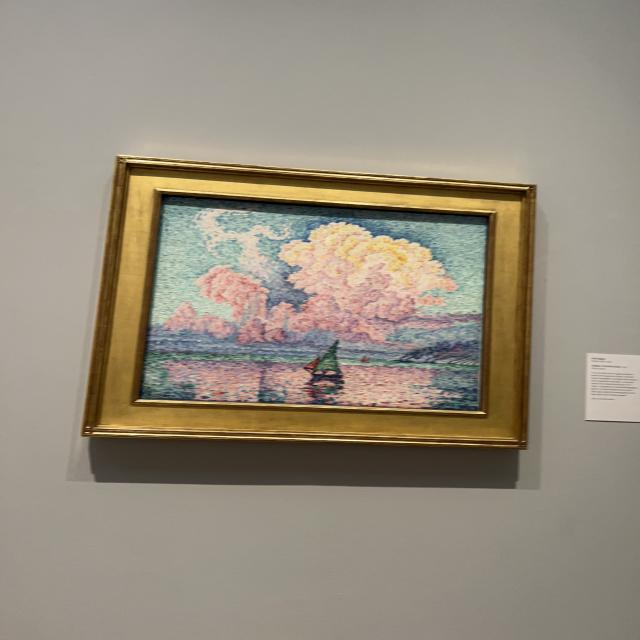sunrise: (142, 197, 482, 408)
